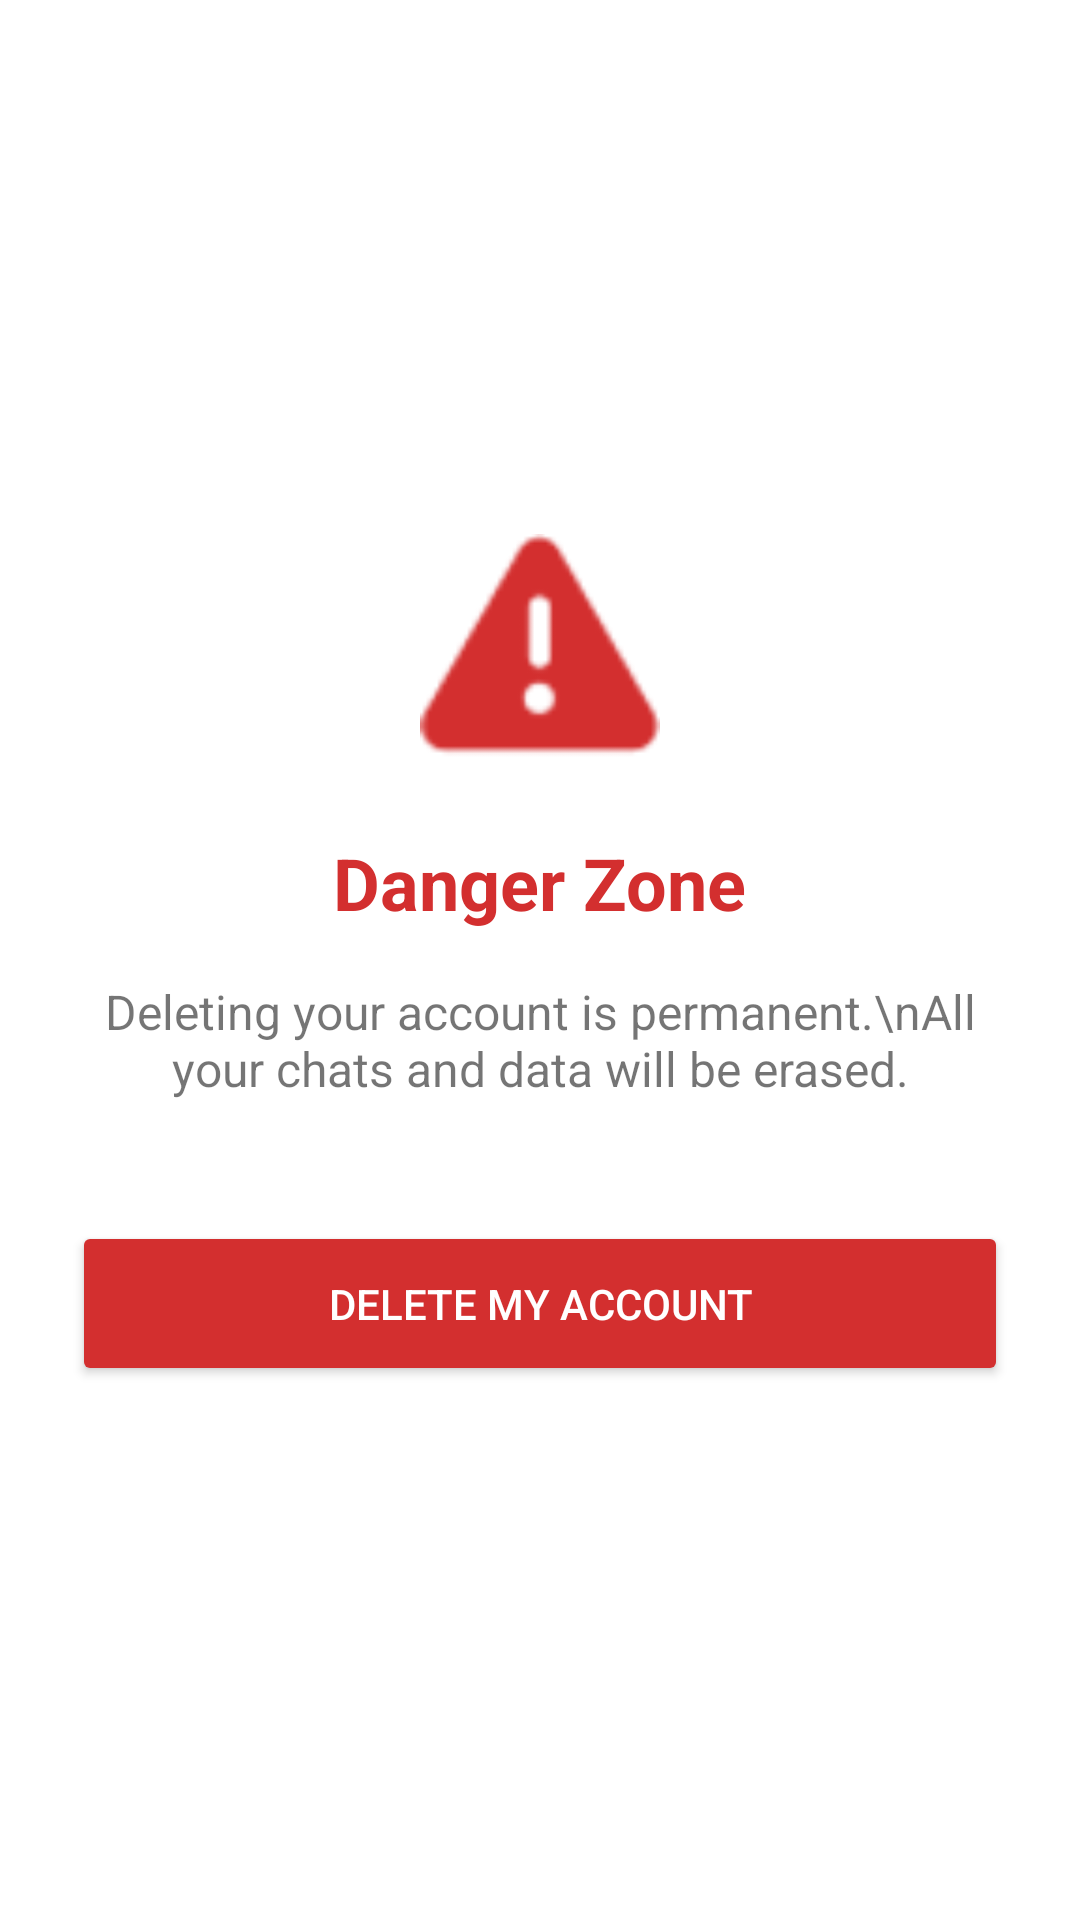

Screen size 1080x1920. Icon name, then its box in pixels as box=[x1, y1, x2, y2]:
alert: box=[420, 534, 660, 753]
